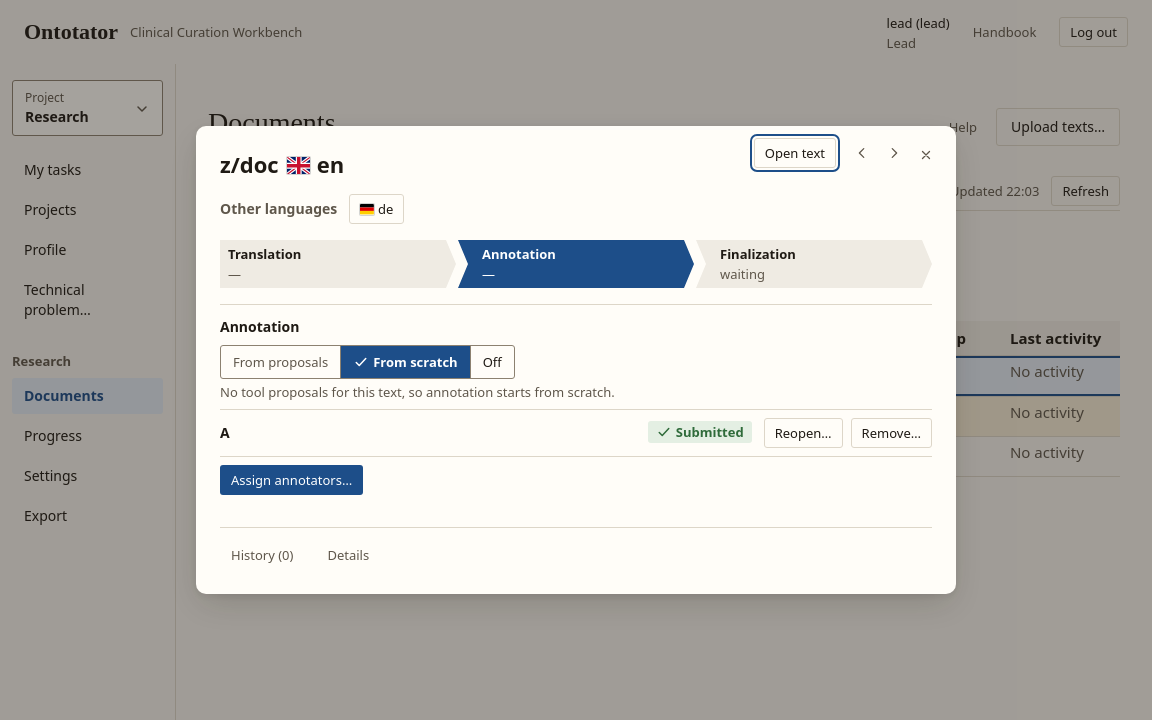
Test: reopens the submitted assignee from their person row in the card and reloads the assignment status
The image size is (1152, 720).
// The submitted annotation's actions live in its row of the Annotation part (#108).
Click the button with aria-label "Reopen A’s annotation" at (803,433), box [764,418,843,448]
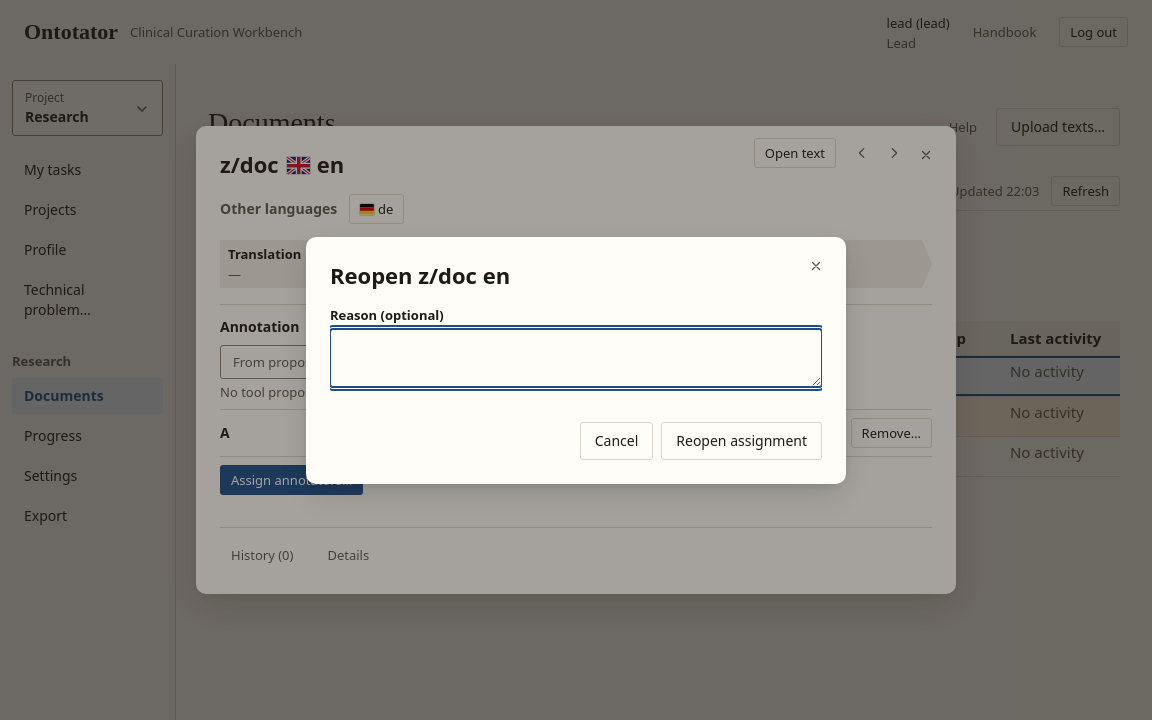
Type "Recheck evidence" into the text box labelled "Reason (optional)" at (576,358), box [330,328,822,386]
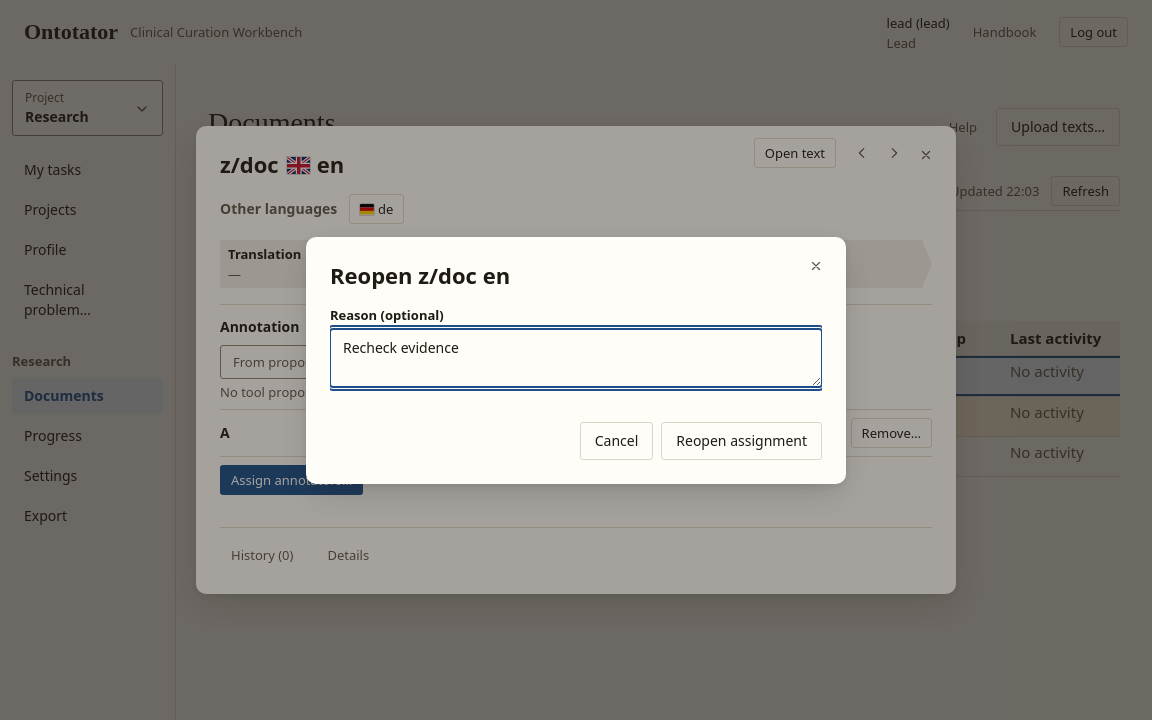
Click the button "Reopen assignment" at (742,440), box [661,422,822,460]
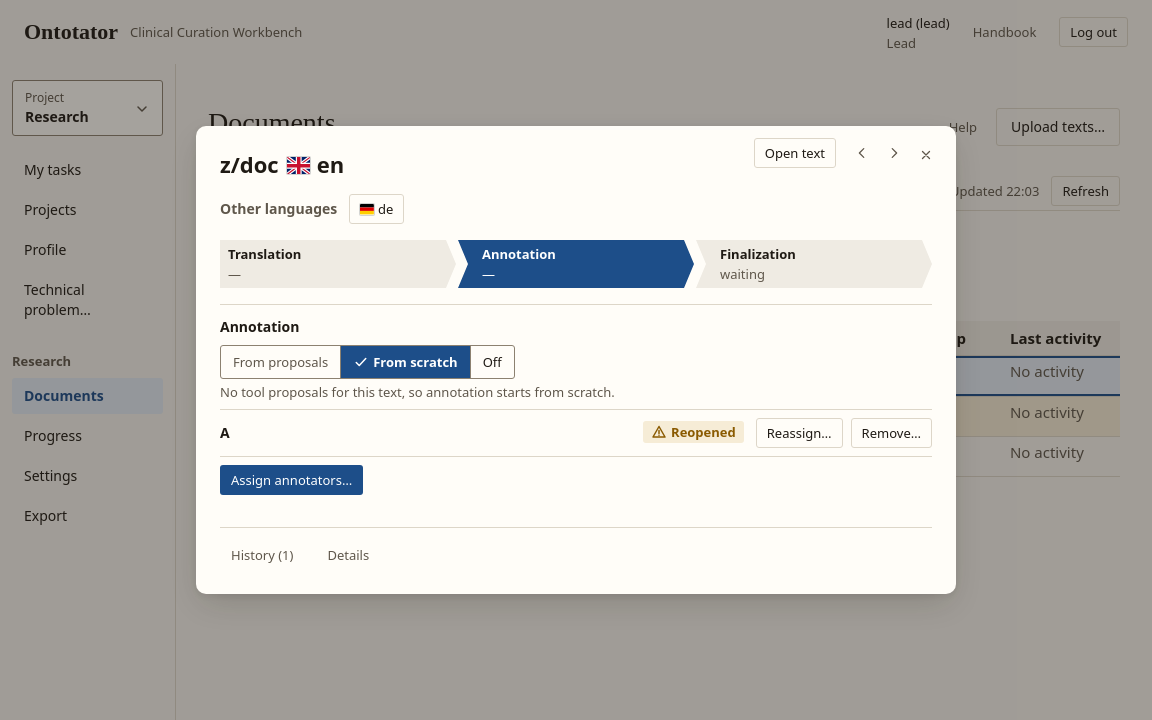
Now the button "Reopen " is gone
